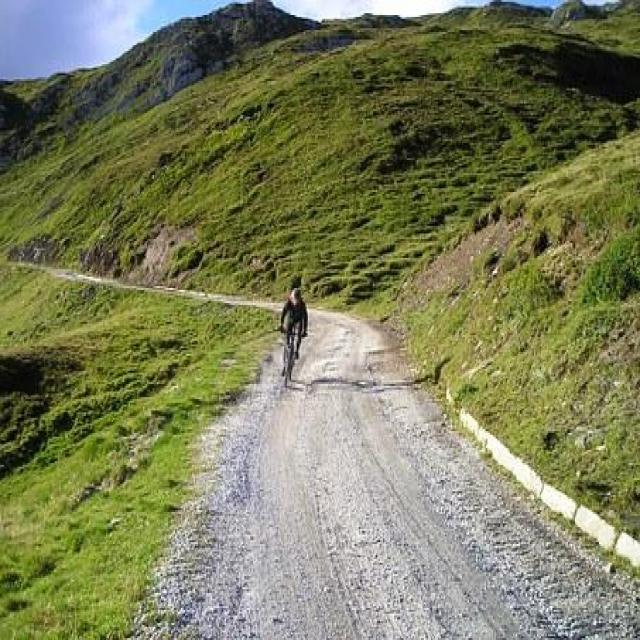bikerider: (270, 277, 311, 393)
